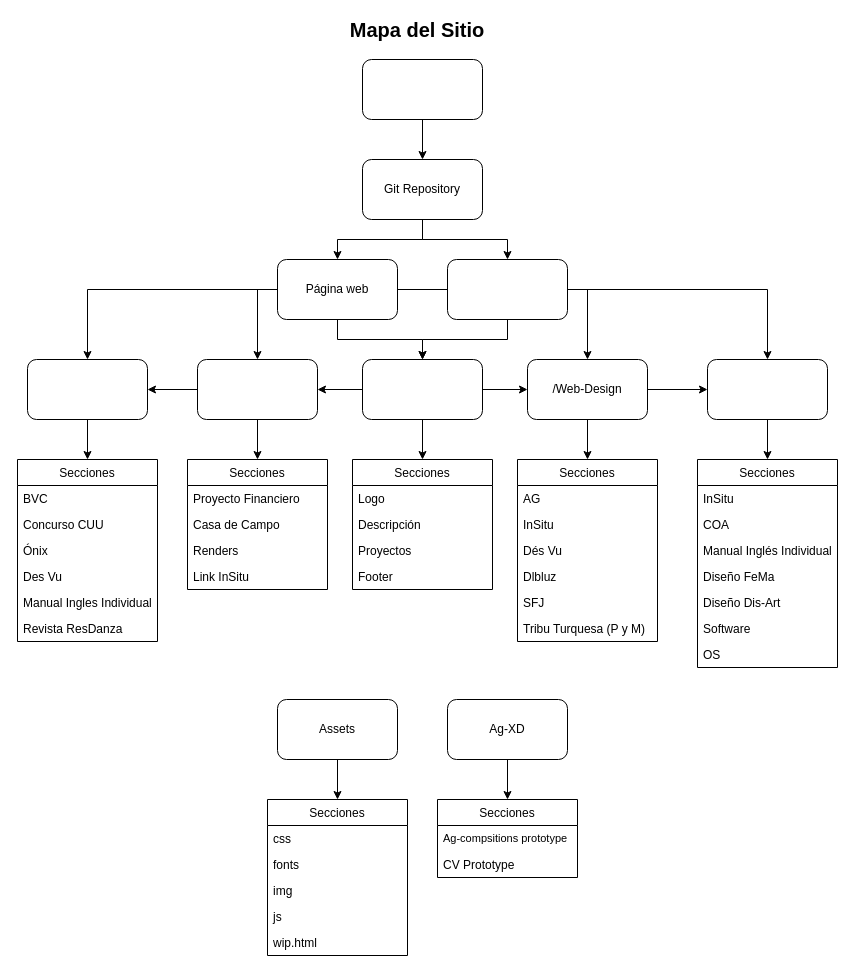
Some shapes in this 855 by 975 pixel diagram are drawn without their labels. The shapes that lost their labels are listed below. From the top down, each one's centre as x and y in pixels, then its label:
point 422,89: Sitio Web https://dominio.com
point 507,289: Portafolio
point 87,389: /Design
point 257,389: /Architecture
point 422,389: ag-compositions /root/
point 767,389: /CV
